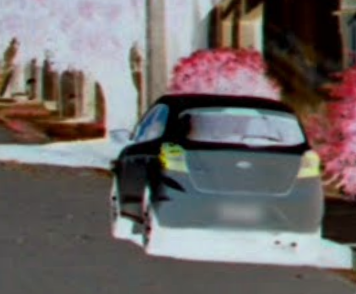car: (110, 89, 329, 266)
